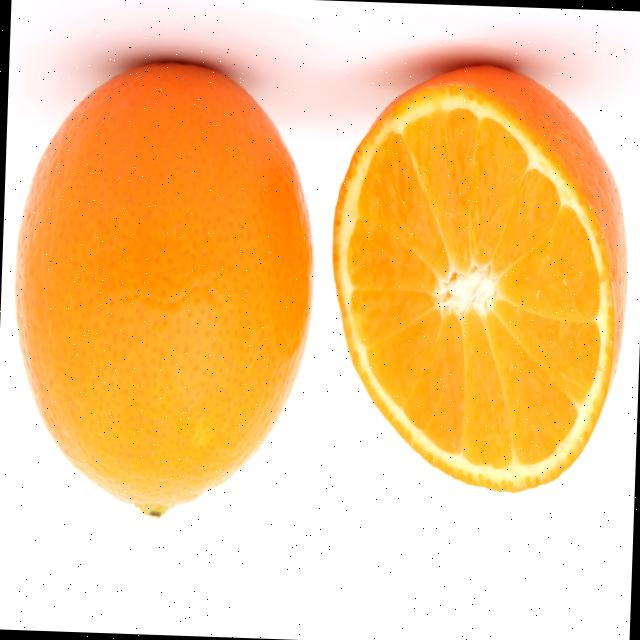Jeruk: (6, 56, 321, 524), (323, 58, 635, 498)
